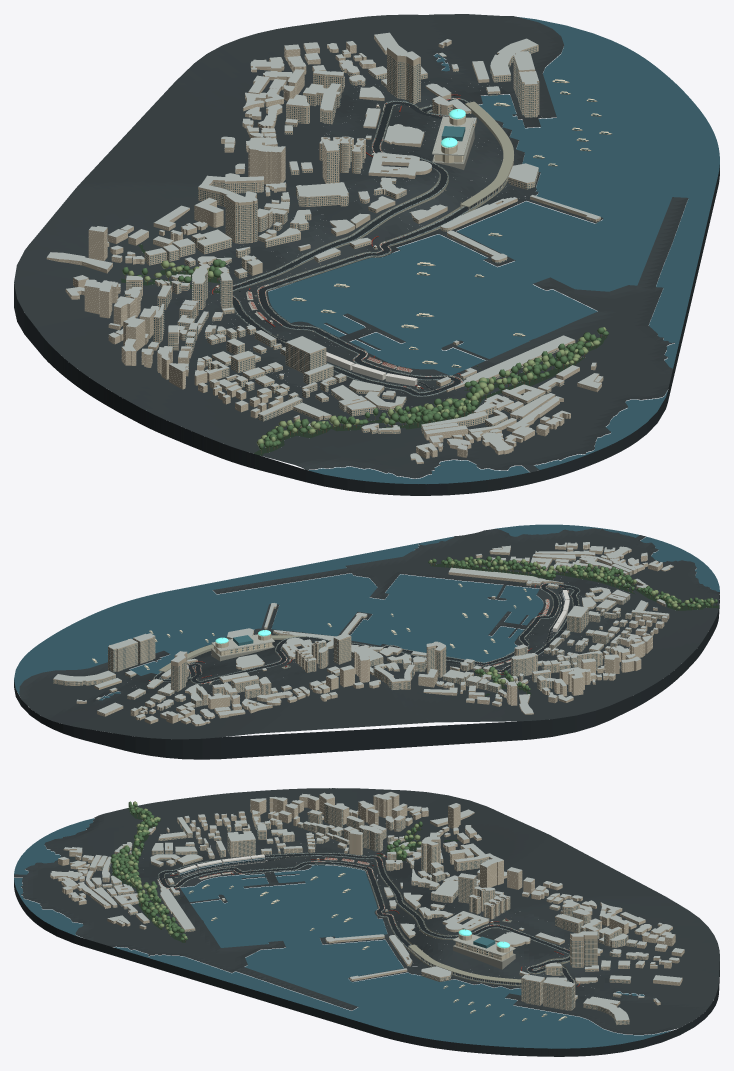
Rendered from Monaco.glb.
The picture shows the model from 3 angles, top to bottom: view 1: azimuth 30°, elevation 25°; view 2: azimuth 150°, elevation 25°; view 3: azimuth 270°, elevation 25°; orthographic projection. The views are drawn at different scales.
Visible parts, largest first — view 1: terrain/ground, water-3/water, terrain-skirt/dark, terrain-ground-finish-1, terrain-ground-finish-2, terrain-ground-finish-3, terrain-ground-finish-0, road/asphalt, terrain-ground-finish-4, scenery/leaves, urban-map-tile--3-1/stone, urban-map-tile--2--1/stone (+51 smaller); view 2: terrain/ground, water-3/water, terrain-skirt/dark, terrain-ground-finish-1, scenery/leaves, terrain-ground-finish-2, road/asphalt, terrain-ground-finish-0, terrain-ground-finish-3, urban-map-tile--1--2/stone, urban-map-tile--3-1/stone, water-1/water (+49 smaller); view 3: terrain/ground, water-3/water, terrain-skirt/dark, terrain-ground-finish-1, terrain-ground-finish-2, terrain-ground-finish-3, road/asphalt, terrain-ground-finish-0, terrain-ground-finish-4, scenery/leaves, urban-map-tile--3-0/stone, urban-map-tile--1--2/stone (+49 smaller).
Part boxes in pixels (x1=…): terrain/ground: x1=14, y1=14, x2=688, y2=478; water-3/water: x1=268, y1=17, x2=719, y2=375; terrain-skirt/dark: x1=14, y1=165, x2=719, y2=495; terrain-ground-finish-1: x1=171, y1=77, x2=540, y2=415; terrain-ground-finish-2: x1=171, y1=78, x2=538, y2=413; terrain-ground-finish-3: x1=172, y1=80, x2=539, y2=404; terrain-ground-finish-0: x1=228, y1=78, x2=541, y2=408; road/asphalt: x1=232, y1=99, x2=506, y2=395; terrain-ground-finish-4: x1=170, y1=92, x2=541, y2=396; scenery/leaves: x1=122, y1=265, x2=609, y2=449; urban-map-tile--3-1/stone: x1=197, y1=341, x2=333, y2=400; urban-map-tile--2--1/stone: x1=172, y1=194, x2=276, y2=280; terrain/ground: x1=19, y1=528, x2=719, y2=739; water-3/water: x1=14, y1=536, x2=543, y2=694; terrain-skirt/dark: x1=14, y1=595, x2=719, y2=759; terrain-ground-finish-1: x1=120, y1=578, x2=614, y2=696; scenery/leaves: x1=428, y1=556, x2=717, y2=690; terrain-ground-finish-2: x1=120, y1=571, x2=614, y2=698; road/asphalt: x1=154, y1=583, x2=579, y2=683; terrain-ground-finish-0: x1=123, y1=579, x2=600, y2=695; terrain-ground-finish-3: x1=121, y1=571, x2=614, y2=697; urban-map-tile--1--2/stone: x1=327, y1=636, x2=399, y2=688; urban-map-tile--3-1/stone: x1=561, y1=608, x2=647, y2=653; water-1/water: x1=640, y1=536, x2=719, y2=591; terrain/ground: x1=14, y1=788, x2=719, y2=1034; water-3/water: x1=114, y1=865, x2=672, y2=1048; terrain-skirt/dark: x1=14, y1=880, x2=719, y2=1056; terrain-ground-finish-1: x1=137, y1=839, x2=609, y2=1002; terrain-ground-finish-2: x1=127, y1=838, x2=609, y2=1002; terrain-ground-finish-3: x1=132, y1=839, x2=609, y2=997; road/asphalt: x1=159, y1=853, x2=573, y2=984; terrain-ground-finish-0: x1=139, y1=854, x2=609, y2=1002; terrain-ground-finish-4: x1=133, y1=838, x2=589, y2=979; scenery/leaves: x1=110, y1=801, x2=422, y2=940; urban-map-tile--3-0/stone: x1=283, y1=803, x2=364, y2=855; urban-map-tile--1--2/stone: x1=431, y1=860, x2=522, y2=903.
Bounding box in the file's own units: 1437 × 129 × 1674.
